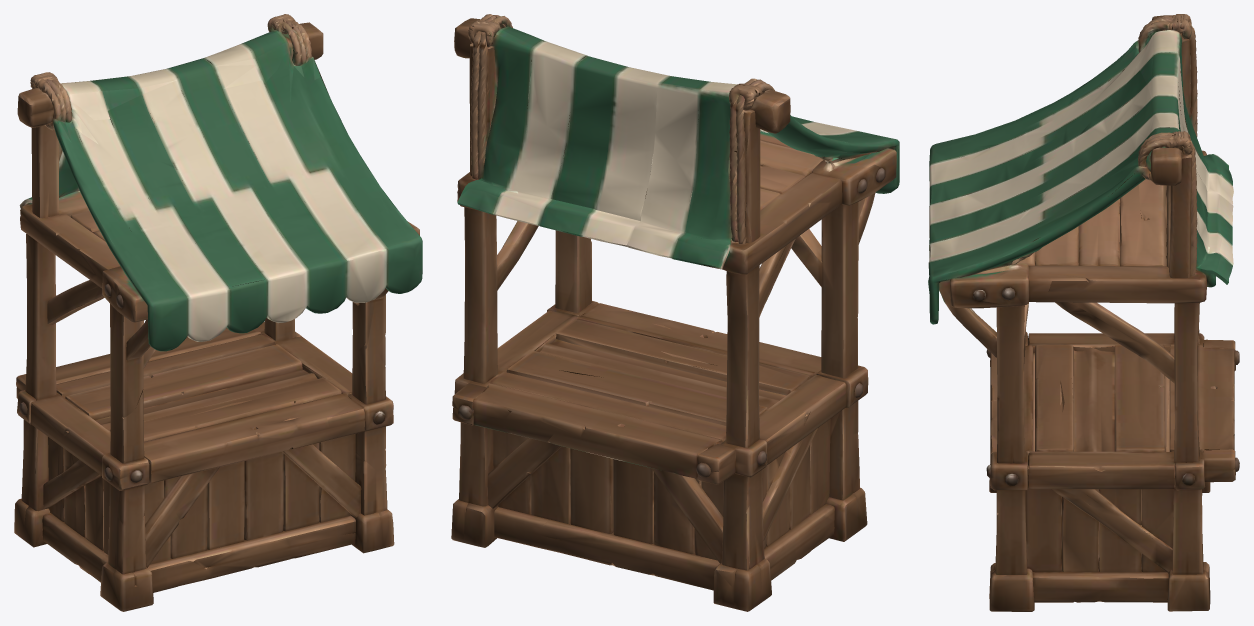
File: StallGreen.glb
3 renders of one model, left to right at view 1: azimuth 30°, elevation 25°; view 2: azimuth 150°, elevation 25°; view 3: azimuth 270°, elevation 25°, orthographic. The views are drawn at different scales.
Parts seen in each view (by area): view 1: StallGreen; view 2: StallGreen; view 3: StallGreen.
Part boxes in pixels (x1,y1,x2,y2): StallGreen: (14, 14, 422, 611); StallGreen: (451, 14, 899, 611); StallGreen: (928, 14, 1239, 611).
Size of the model in its own units: 1.91 by 2.88 by 1.73.
Materials: 2 (2 with a texture image).
